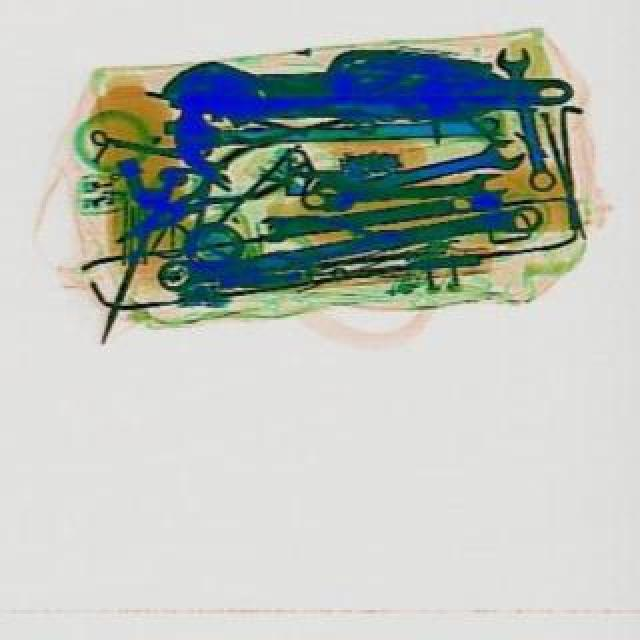scissors: (160, 204, 552, 298), (166, 58, 578, 134), (320, 138, 532, 218), (498, 48, 566, 198), (304, 174, 512, 218)
